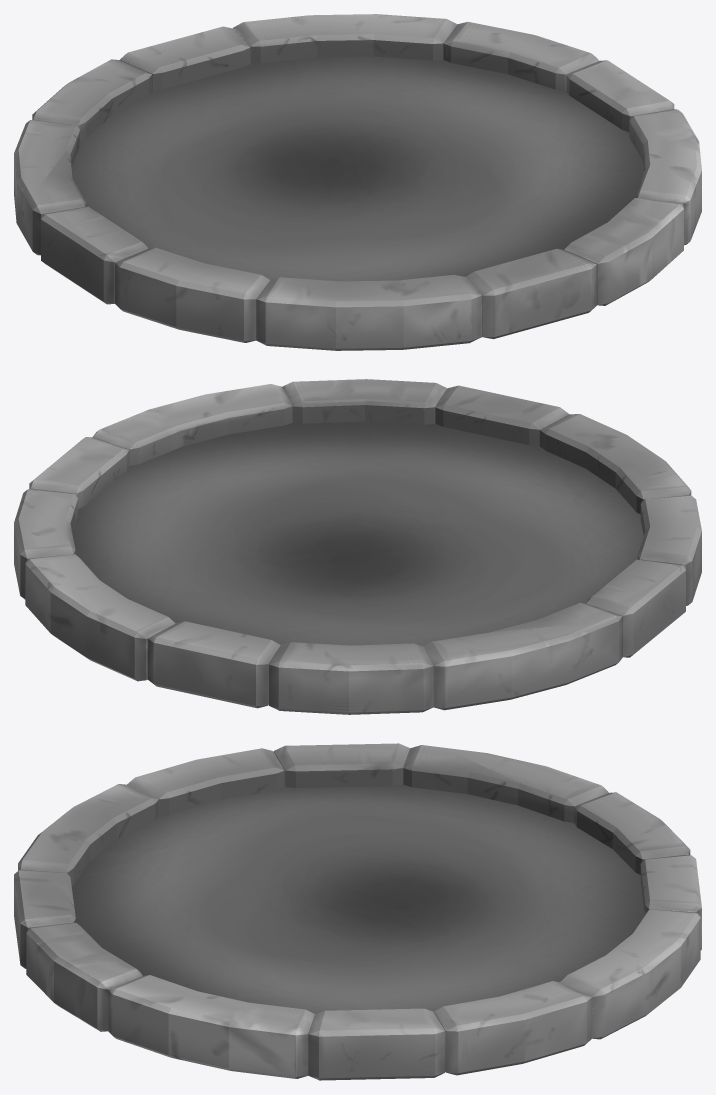
The model's file is RockBase.fbx.
3 views of the same model, one above another, from view 1: azimuth 30°, elevation 25°; view 2: azimuth 150°, elevation 25°; view 3: azimuth 270°, elevation 25° (orthographic).
Parts seen in each view (by area): view 1: Base, Rocks; view 2: Base, Rocks; view 3: Base, Rocks.
Boxes of the visible parts, x1=… form: Base: x1=71, y1=56, x2=644, y2=281; Rocks: x1=14, y1=14, x2=701, y2=350; Base: x1=72, y1=421, x2=643, y2=646; Rocks: x1=14, y1=379, x2=701, y2=714; Base: x1=71, y1=784, x2=644, y2=1014; Rocks: x1=14, y1=743, x2=701, y2=1080.
Bounding box in the file's own units: 369 × 29.39 × 368.
2 materials, 2 textured.
